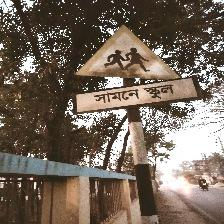School-in-front: (72, 23, 199, 115)
